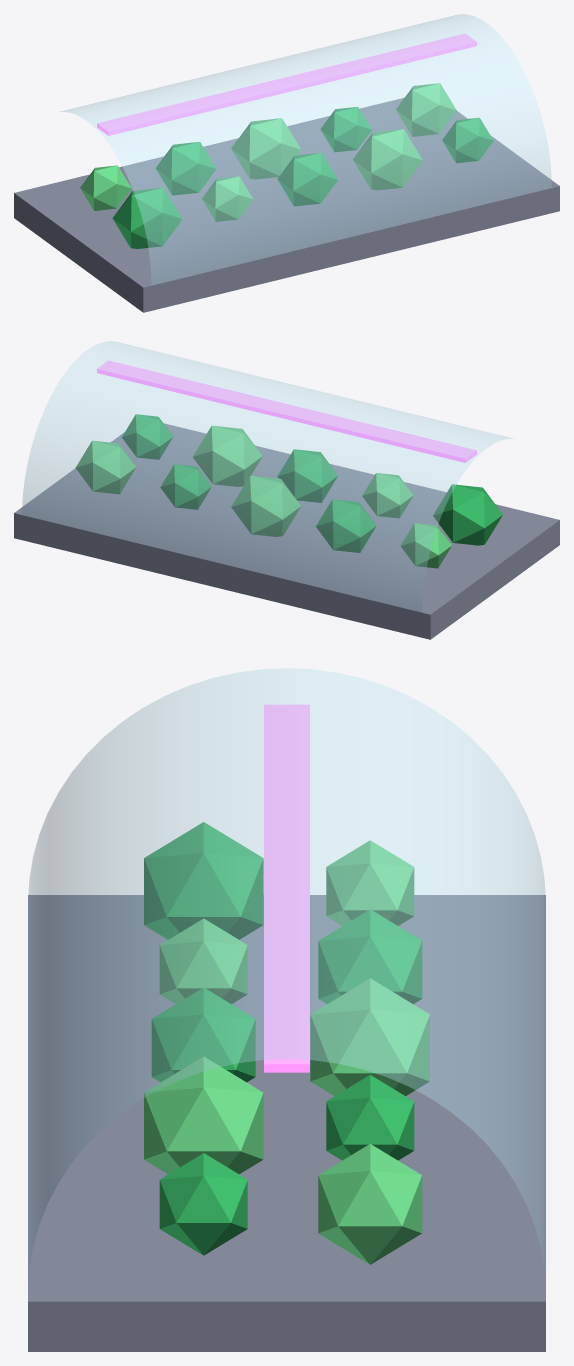
Rendered from invernadero.glb.
The picture shows the model from 3 angles, top to bottom: view 1: azimuth 30°, elevation 25°; view 2: azimuth 150°, elevation 25°; view 3: azimuth 270°, elevation 25°; orthographic projection. The views are drawn at different scales.
Visible parts, largest first — view 1: invernadero, luz; view 2: invernadero, luz; view 3: invernadero, luz.
Part boxes in pixels (box(x1,y1,x2,y2)): invernadero: box(14, 14, 559, 312); luz: box(97, 33, 476, 135); invernadero: box(14, 341, 559, 639); luz: box(97, 360, 476, 462); invernadero: box(28, 668, 545, 1351); luz: box(264, 704, 309, 1072).
Size of the model in its own units: 5.2 by 1.7 by 2.8.
